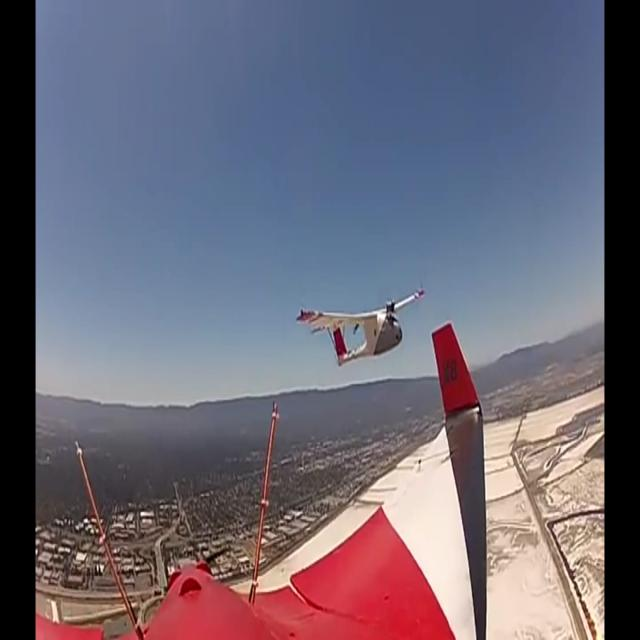iha: (295, 311, 427, 329)
